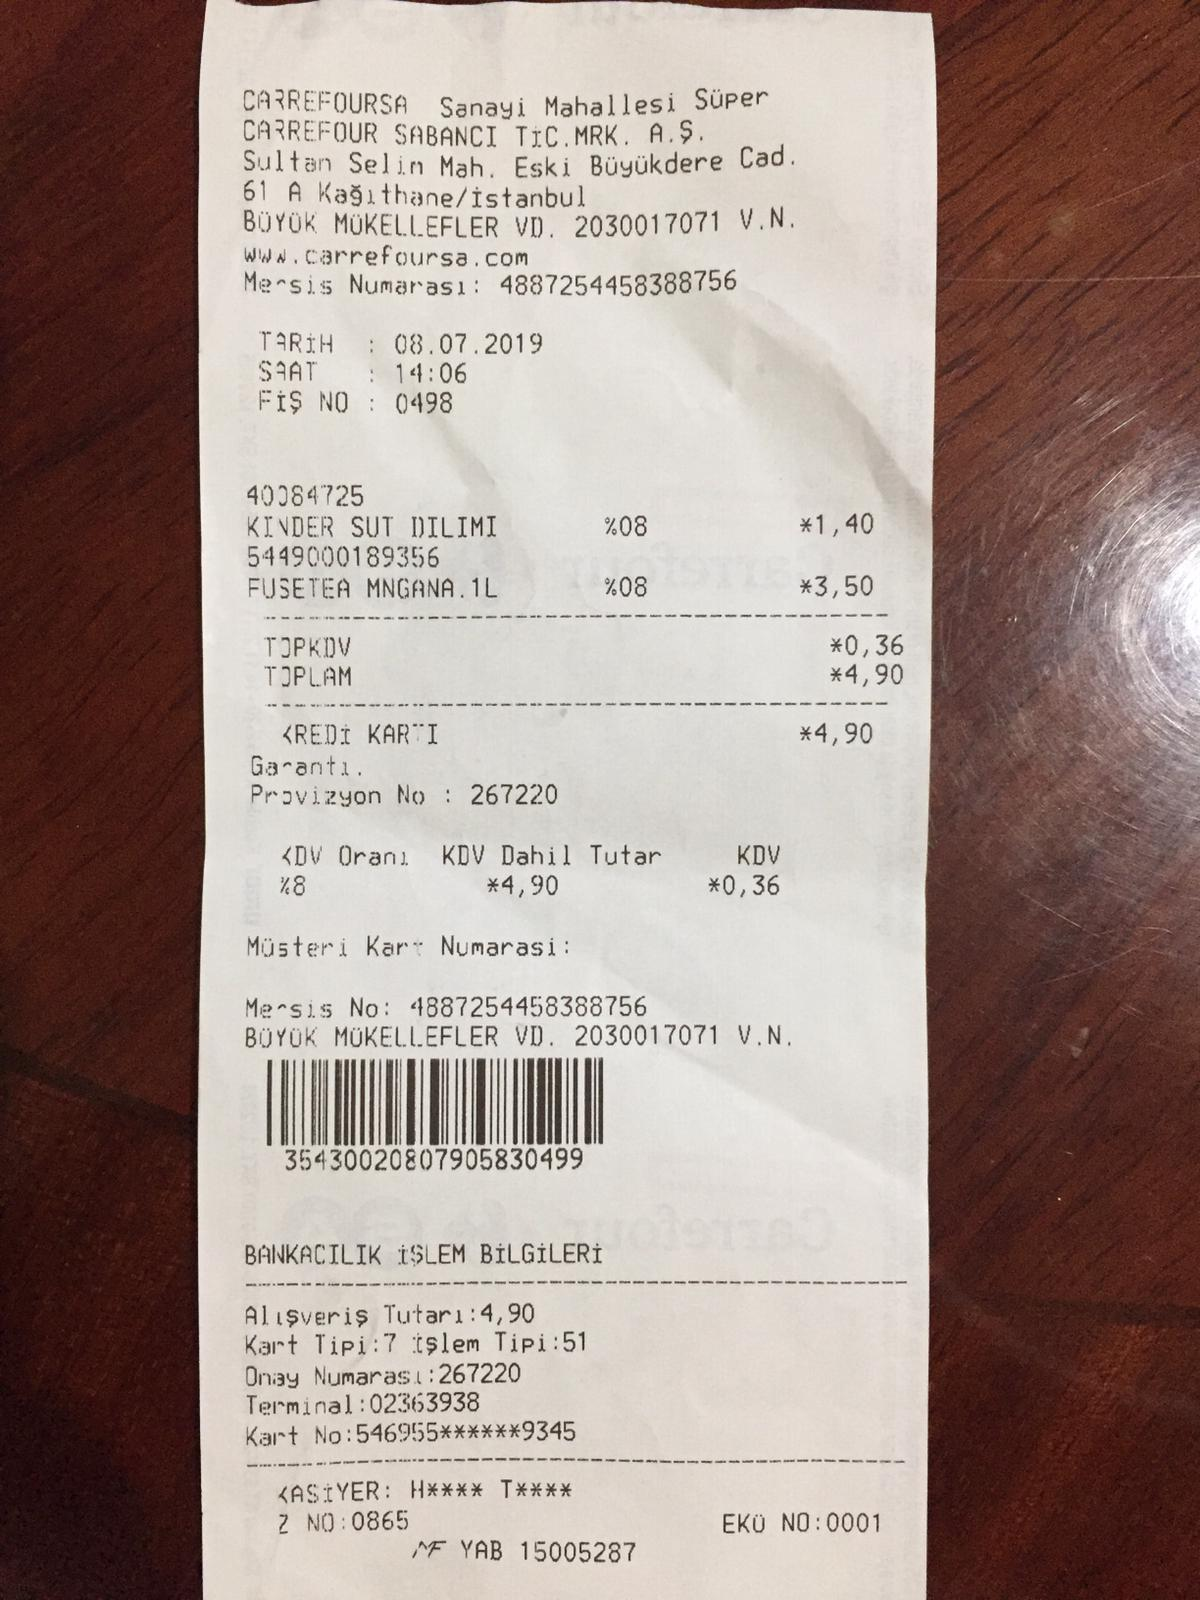total: (267, 657, 918, 699)
